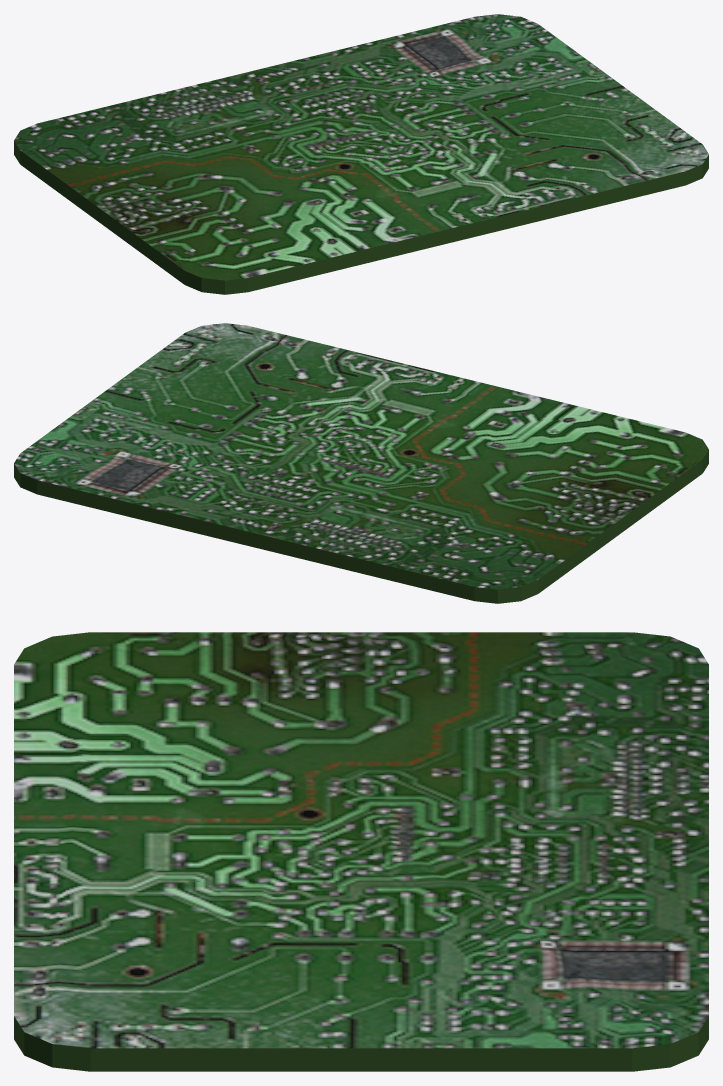
Rendered from mesh_Motherboard.fbx.
The picture shows the model from 3 angles, top to bottom: view 1: azimuth 30°, elevation 25°; view 2: azimuth 150°, elevation 25°; view 3: azimuth 270°, elevation 25°; orthographic projection. The views are drawn at different scales.
Visible parts, largest first — view 1: Motherboard; view 2: Motherboard; view 3: Motherboard.
Part boxes in pixels (bbox=[...]): Motherboard: bbox=[14, 14, 708, 294]; Motherboard: bbox=[14, 323, 708, 603]; Motherboard: bbox=[14, 632, 708, 1071].
Bounding box in the file's own units: 2 × 0.0525 × 1.41.
